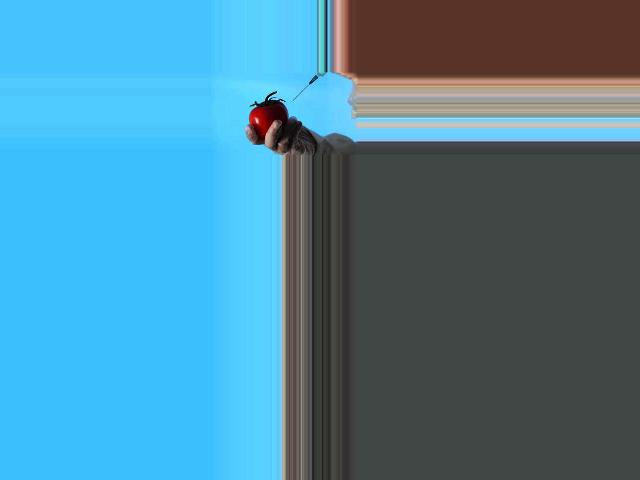tomato: (248, 100, 287, 139)
